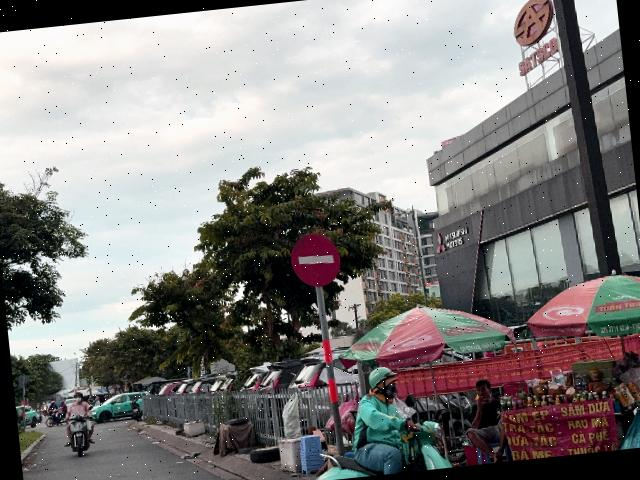cam-di-nguoc-chieu: (288, 232, 342, 290)
